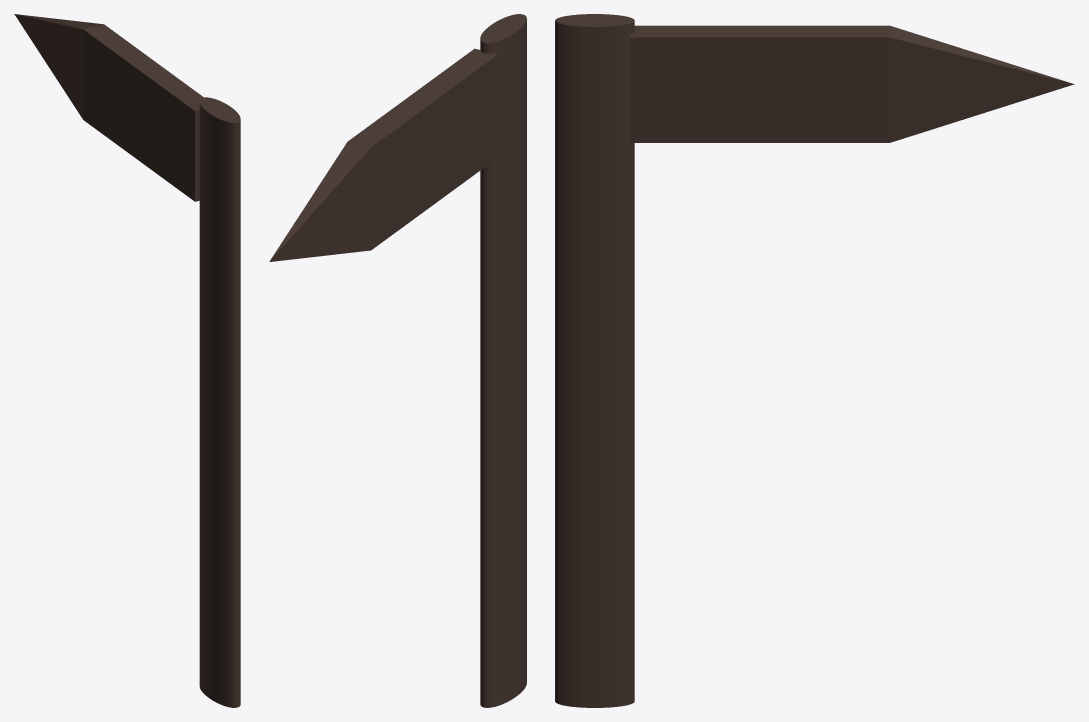
Rendered from SM_Sign_one_way.fbx.
3 renders of one model, left to right at view 1: azimuth 30°, elevation 25°; view 2: azimuth 150°, elevation 25°; view 3: azimuth 270°, elevation 25°, orthographic. The views are drawn at different scales.
Visible parts, largest first — view 1: Cylinder, Cube; view 2: Cylinder, Cube; view 3: Cylinder, Cube.
Boxes of the visible parts, x1=… form: Cylinder: x1=199, y1=97, x2=240, y2=707; Cube: x1=14, y1=14, x2=203, y2=201; Cylinder: x1=480, y1=14, x2=526, y2=707; Cube: x1=269, y1=48, x2=498, y2=261; Cylinder: x1=555, y1=14, x2=634, y2=707; Cube: x1=629, y1=25, x2=1074, y2=142.
Bounding box in the file's own units: 8.12 × 199 × 138.
